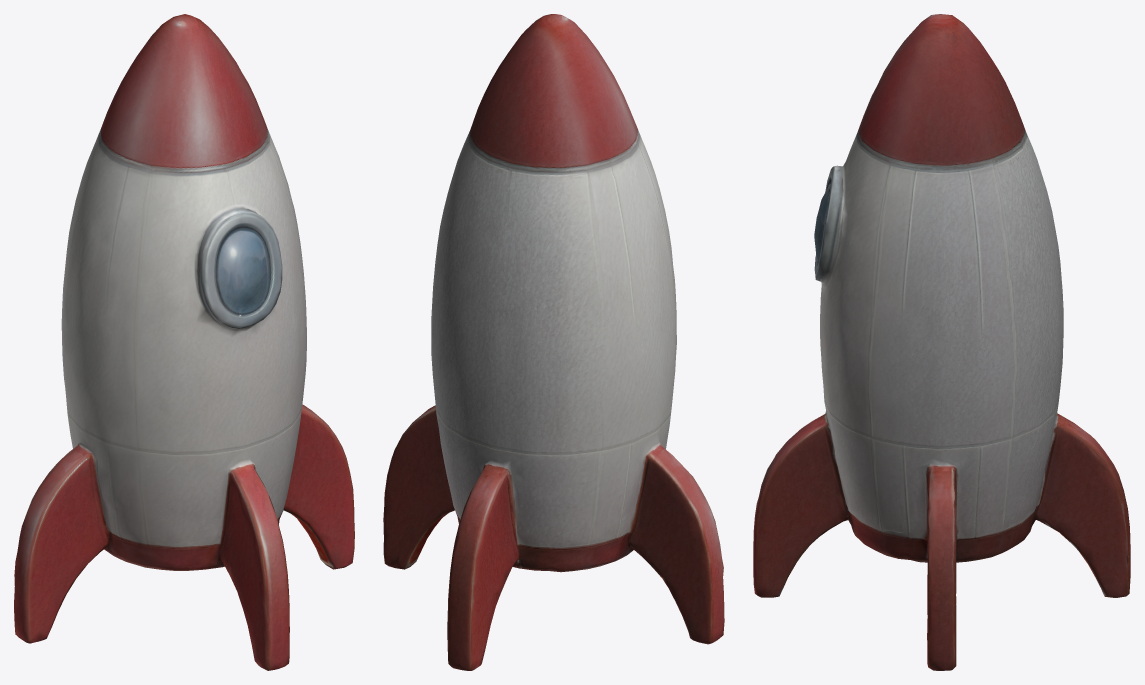
The model's file is Red White Rocket.fbx.
The picture shows the model from 3 angles, left to right: view 1: azimuth 30°, elevation 25°; view 2: azimuth 150°, elevation 25°; view 3: azimuth 270°, elevation 25°; orthographic projection.
Visible parts, largest first — view 1: texture_mapping; view 2: texture_mapping; view 3: texture_mapping.
Boxes of the visible parts, bbox=[...] form: texture_mapping: bbox=[14, 14, 354, 670]; texture_mapping: bbox=[383, 14, 724, 670]; texture_mapping: bbox=[753, 14, 1130, 670].
Bounding box in the file's own units: 59.43 × 100 × 59.48.
1 material, 1 textured.
